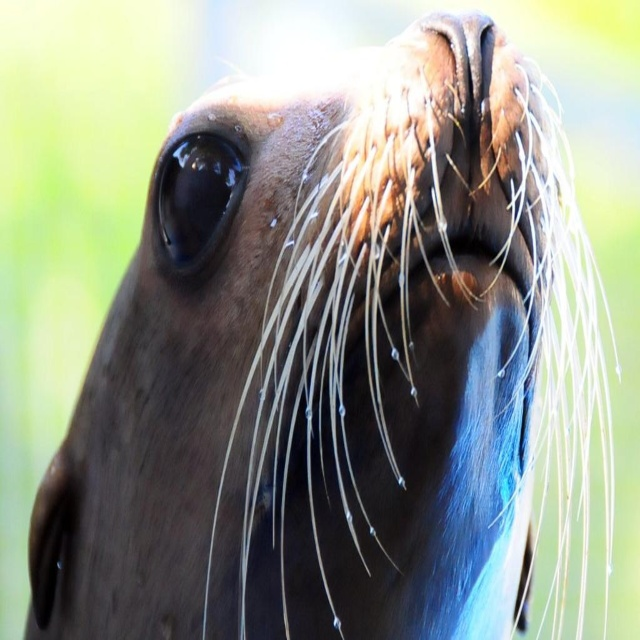Sea lion: (25, 13, 618, 639)
